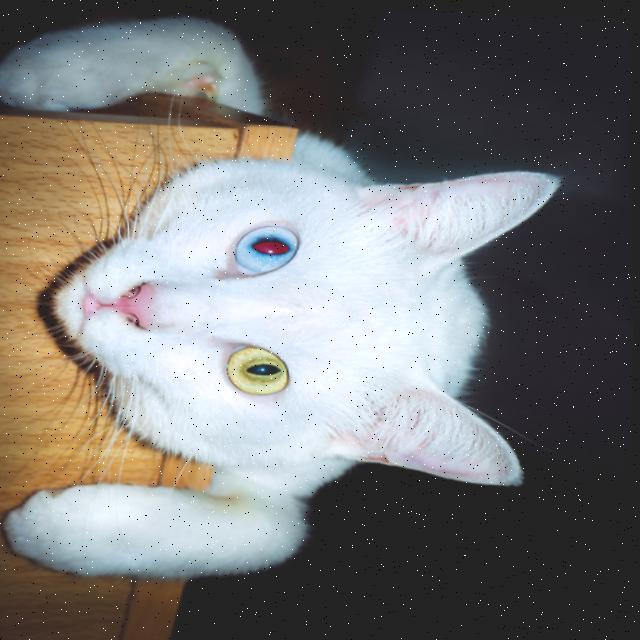Khao Manee: (0, 0, 584, 598)
